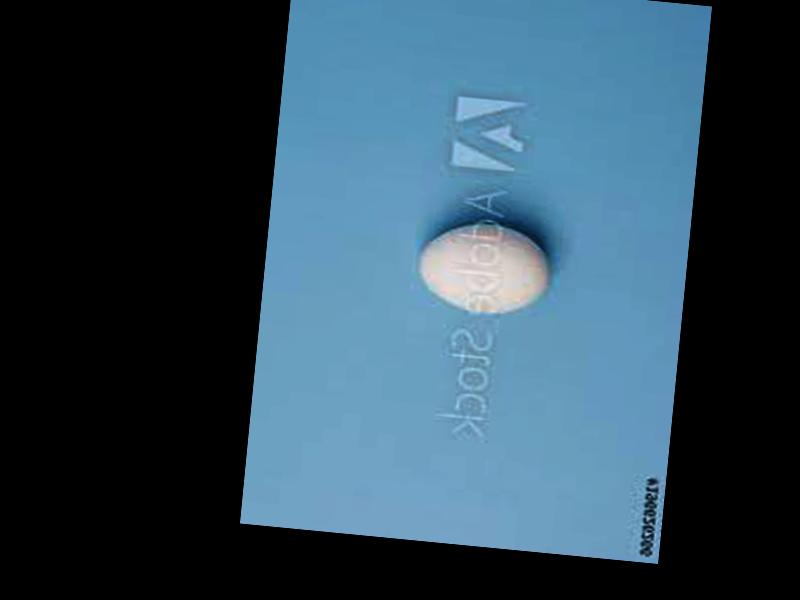Eggs: (418, 218, 552, 317)
